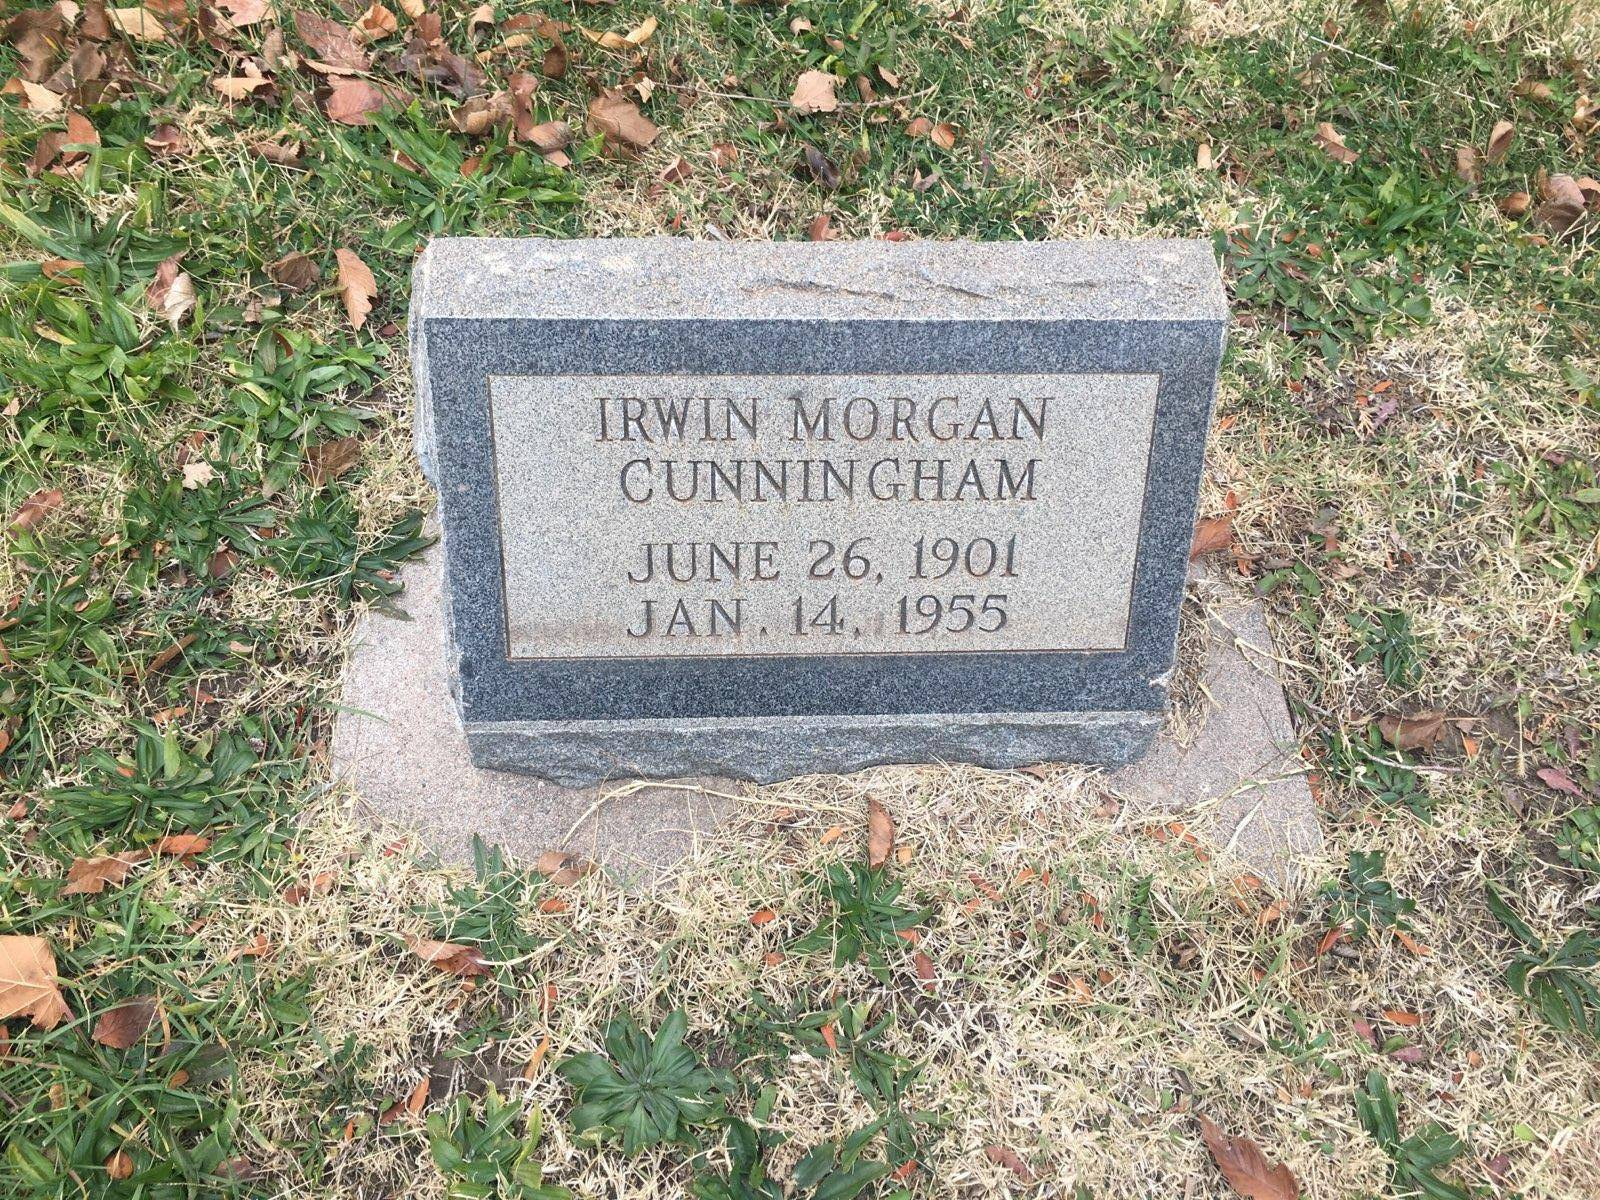upright: (304, 221, 1358, 919)
